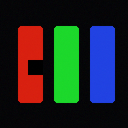1 square: (28, 60, 42, 74)
